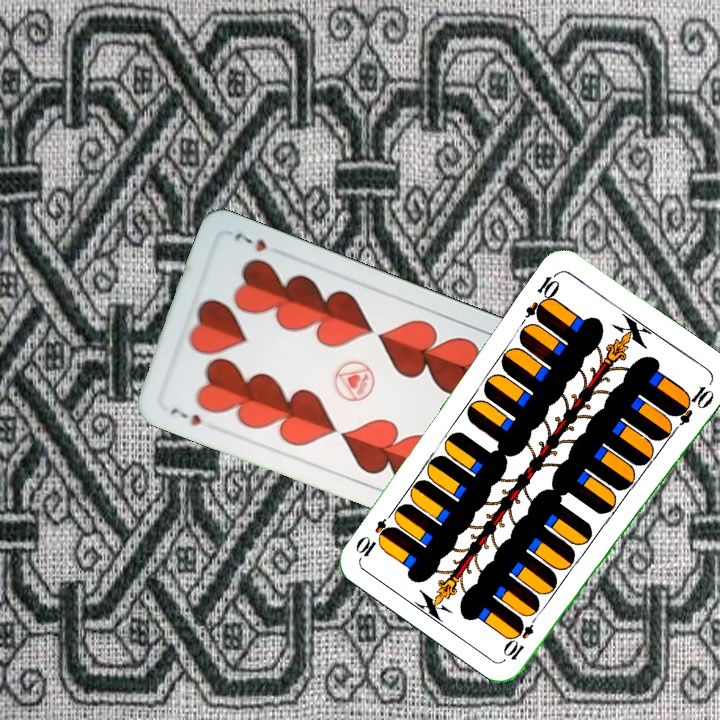E10: (521, 268, 563, 324), (500, 608, 542, 663)
H7: (165, 404, 204, 429)
